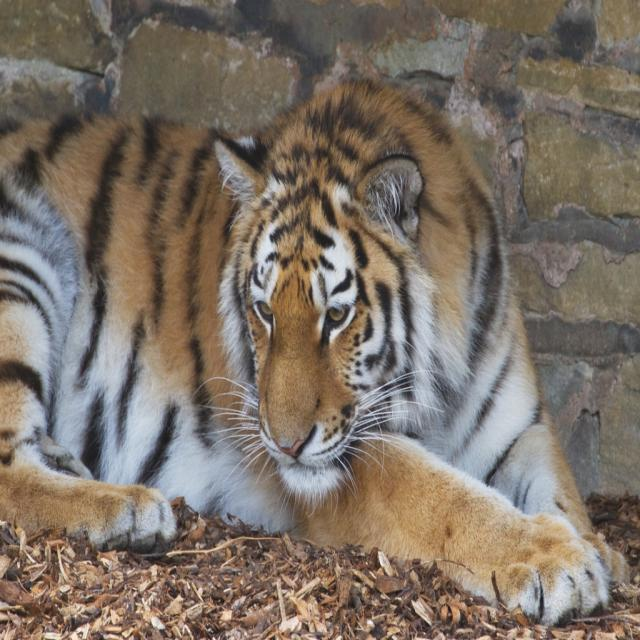Tiger: (0, 77, 628, 625)
